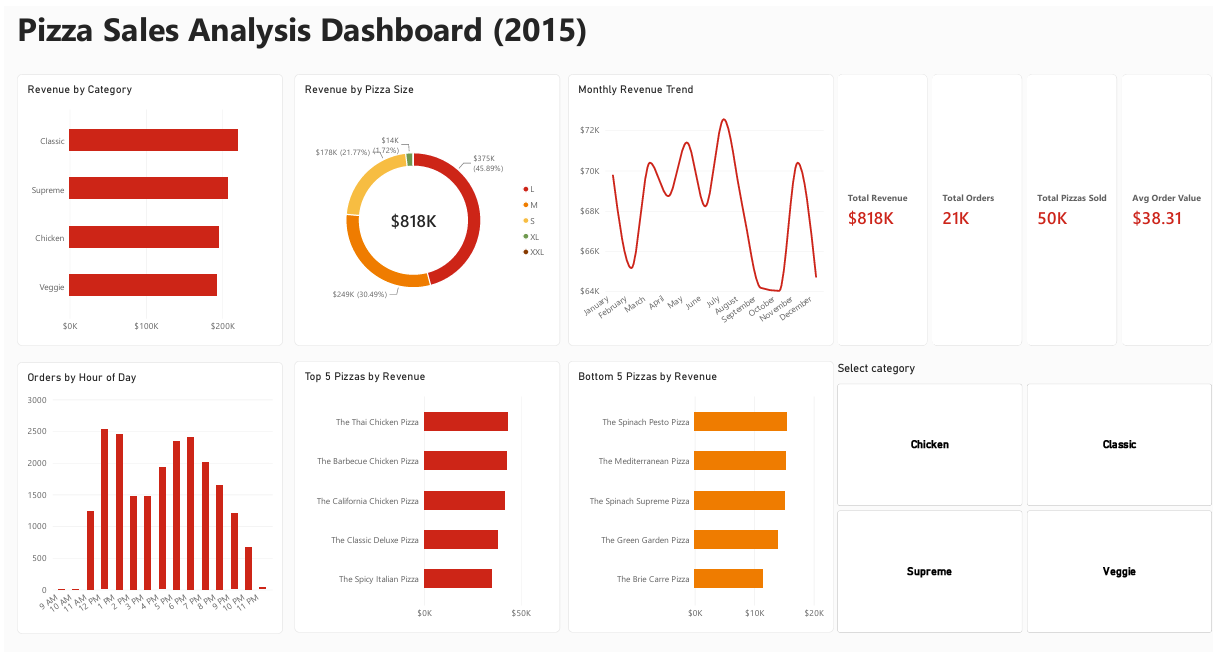

The dashboard page shown, as its layout file describes it:
{"tool":"powerbi","page":{"name":"Page 1","canvas":[2000,1100],"ordinal":0},"visuals":[{"type":"cardVisual","fields":{"Data":["order_details.Total Revenue","order_details.Total Orders","order_details.Total Pizzas Sold","order_details.Avg Order Value"]},"box":[1379.1,112.1,620.3,450.9],"z":0},{"type":"clusteredBarChart","title":"Revenue by Category","fields":{"Category":["pizza_types.category"],"Y":["order_details.Total Revenue"]},"box":[21.5,112.1,440,450],"z":1000},{"type":"donutChart","title":"Revenue by Pizza Size","fields":{"Category":["pizzas.size"],"Y":["order_details.Total Revenue"]},"box":[479.6,112.1,440,450],"z":2000},{"type":"clusteredColumnChart","title":"Orders by Hour of Day","fields":{"Category":["orders.Hour Label"],"Y":["order_details.Total Orders"]},"box":[21.5,589.3,440,450],"z":3000},{"type":"clusteredBarChart","title":"Top 5 Pizzas by Revenue","fields":{"Category":["pizza_types.name"],"Y":["order_details.Total Revenue"]},"box":[479.6,586.9,440,450],"z":4000},{"type":"clusteredBarChart","title":"Bottom 5 Pizzas by Revenue","fields":{"Category":["pizza_types.name"],"Y":["order_details.Total Revenue"]},"box":[932.9,586.9,440,450],"z":5000},{"type":"lineChart","title":"Monthly Revenue Trend","fields":{"Category":["orders.date.Variation.Date Hierarchy.Month"],"Y":["order_details.Total Revenue"]},"box":[932.9,112.1,440,450],"z":6000},{"type":"textbox","box":[21.5,0,978.2,112.1],"z":7001},{"type":"advancedSlicerVisual","title":"Select category","fields":{"Values":["pizza_types.category"]},"box":[1379.1,586.9,620.3,450],"z":7002}]}

Visuals, with their boxes in screenshot pixels (x1, y1, x2, y2), scaled from the page's 2000x1100 canvas onto the 1219x652 screenshot:
cardVisual - order_details.Total Revenue x order_details.Total Orders: bbox=[841, 66, 1218, 334]
"Revenue by Category" clusteredBarChart: bbox=[13, 66, 281, 333]
"Revenue by Pizza Size" donutChart: bbox=[292, 66, 560, 333]
"Orders by Hour of Day" clusteredColumnChart: bbox=[13, 349, 281, 616]
"Top 5 Pizzas by Revenue" clusteredBarChart: bbox=[292, 348, 560, 615]
"Bottom 5 Pizzas by Revenue" clusteredBarChart: bbox=[569, 348, 837, 615]
"Monthly Revenue Trend" lineChart: bbox=[569, 66, 837, 333]
textbox: bbox=[13, 0, 609, 66]
"Select category" advancedSlicerVisual: bbox=[841, 348, 1218, 615]
